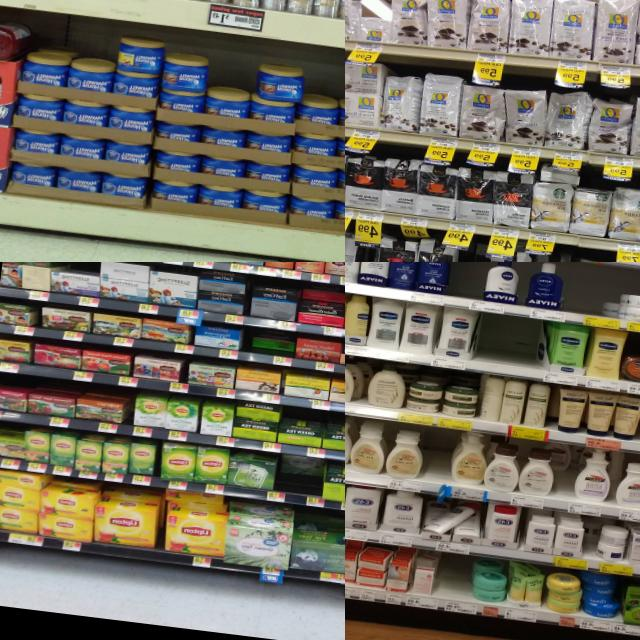100- O.O.S: (477, 316, 538, 377), (564, 268, 604, 324), (420, 428, 455, 492), (436, 554, 473, 612), (445, 262, 485, 309)
